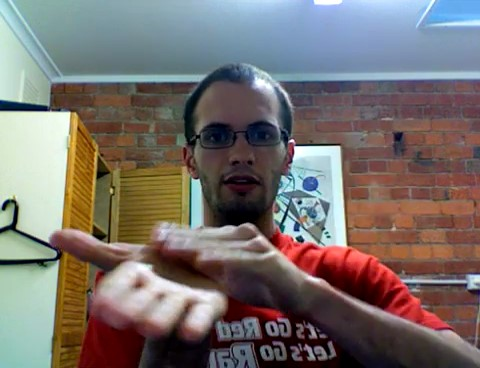H: (32, 207, 327, 349)
